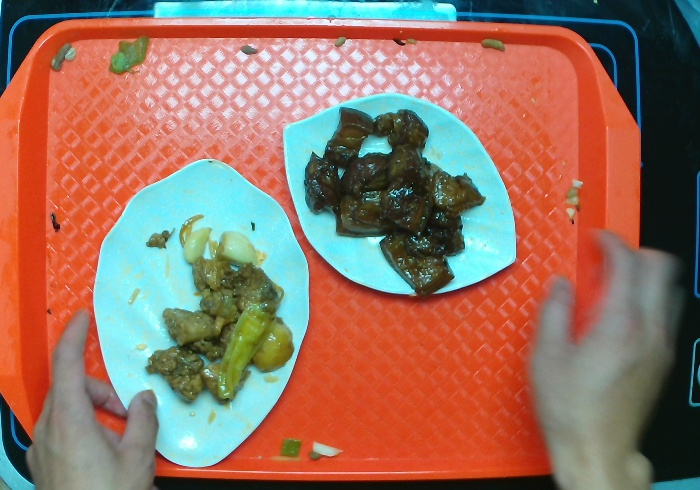RJxy-Bai_Ye_Pan: (91, 156, 311, 469)
RJxy-Da_Du_Pan: (281, 91, 518, 297)
